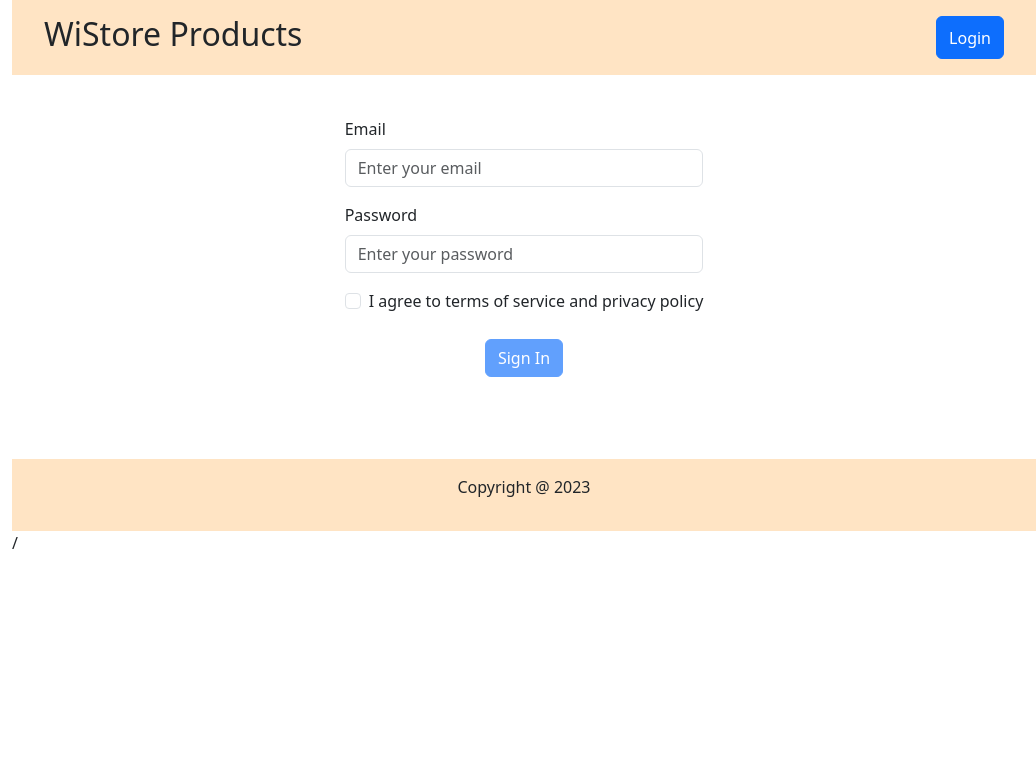
Scenario: Hatalı durumlarda beklenen hata mesajları görünüyor ve buton disabled kalıyor. › Email yanlış
Type "aaaa" into the field with test id "emailInput" at x=525, y=168, box [345, 149, 704, 187]
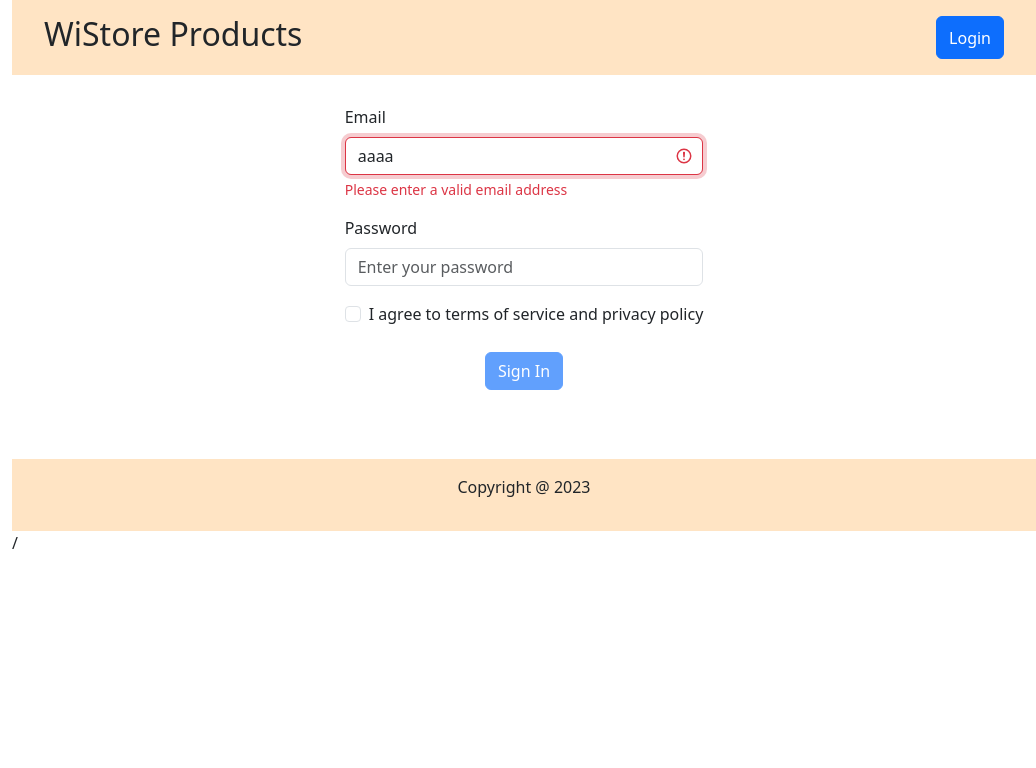
expect the button with test id "buttonInput" is disabled: met, box [485, 352, 563, 390]
expect the text "Please enter a valid email address" is shown: met, box [345, 180, 567, 199]
